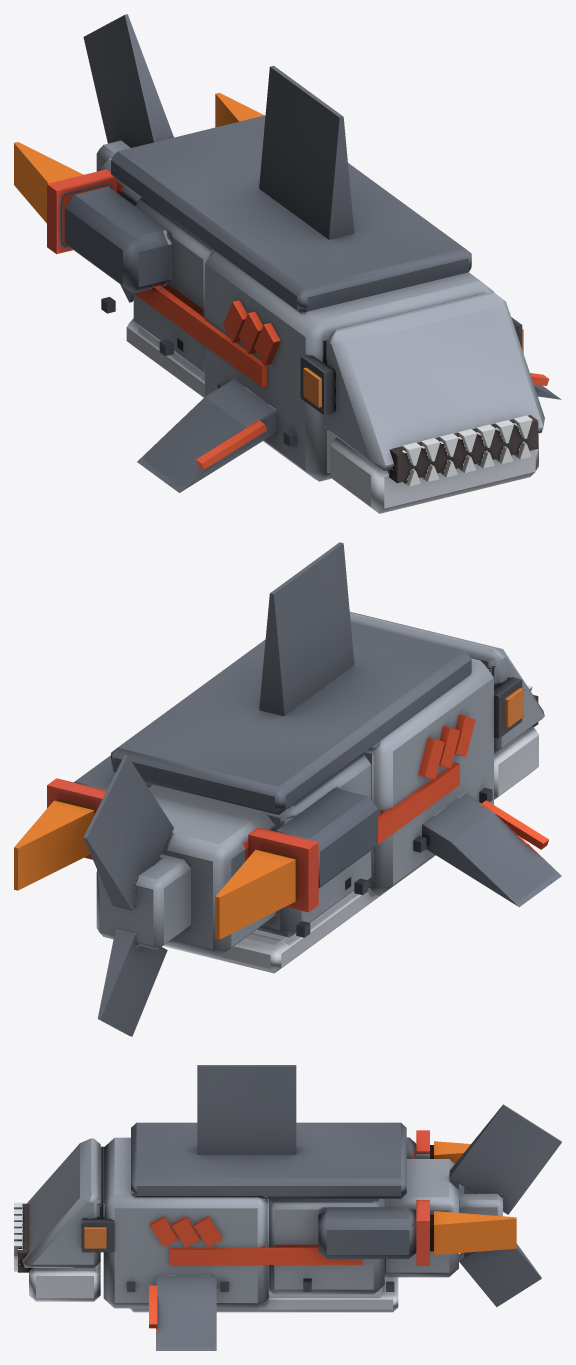
Rendered from RequinTorpille_Rig.fbx.
3 renders of one model, top to bottom at view 1: azimuth 30°, elevation 25°; view 2: azimuth 150°, elevation 25°; view 3: azimuth 270°, elevation 25°, orthographic. The views are drawn at different scales.
Visible parts, largest first — view 1: Body, FinR, Tail, Flame1, Flame0; view 2: Body, Tail, FinR, Flame1, Flame0; view 3: Body, Tail, FinL, Flame0, Flame1.
Boxes of the visible parts, bbox=[...] form: Body: bbox=[47, 65, 544, 513]; FinR: bbox=[137, 379, 276, 492]; Tail: bbox=[83, 14, 173, 302]; Flame1: bbox=[14, 142, 83, 223]; Flame0: bbox=[215, 92, 264, 127]; Body: bbox=[47, 542, 544, 973]; Tail: bbox=[83, 755, 190, 1036]; FinR: bbox=[422, 793, 561, 907]; Flame1: bbox=[215, 849, 295, 939]; Flame0: bbox=[14, 800, 94, 890]; Body: bbox=[14, 1065, 458, 1312]; Tail: bbox=[449, 1104, 561, 1307]; FinL: bbox=[149, 1275, 216, 1350]; Flame0: bbox=[434, 1211, 516, 1254]; Flame1: bbox=[434, 1141, 470, 1163].
Bounding box in the file's own units: 7.08 × 6 × 12.36.
1 material, 1 textured.
